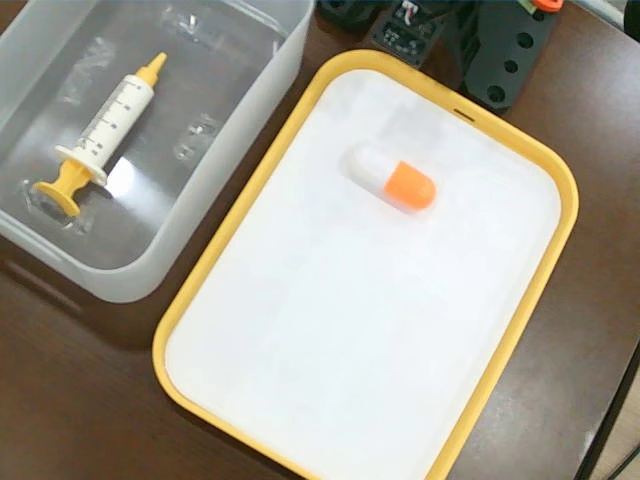pill: (334, 137, 443, 216)
syringe: (30, 48, 171, 219)
